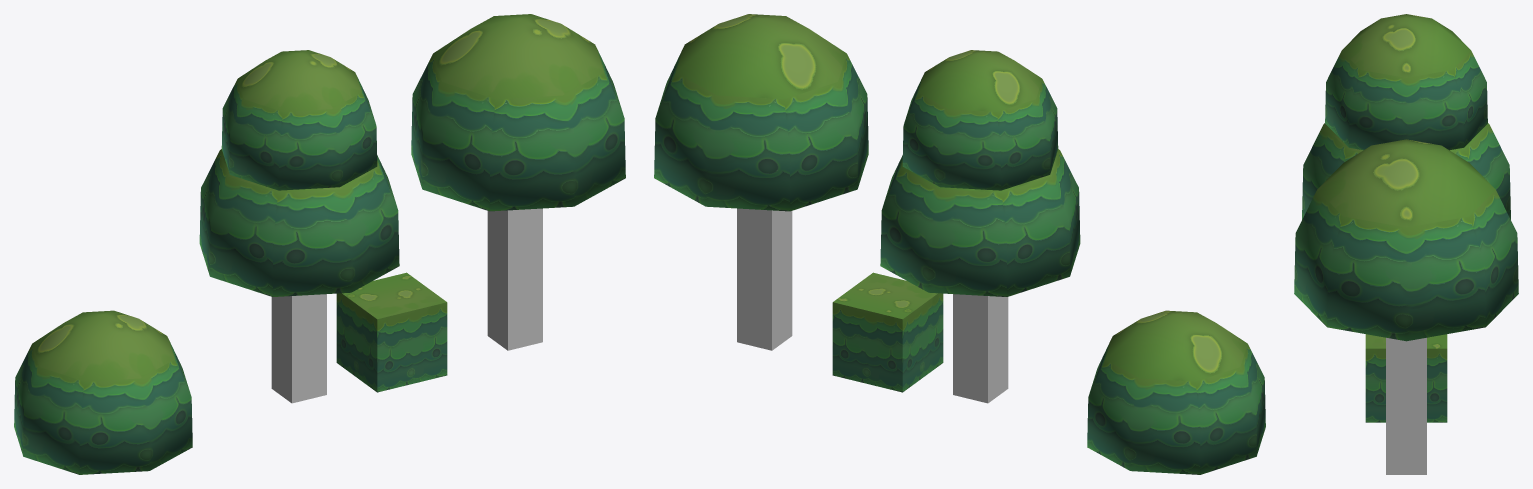
The model's file is Cube_Tree.fbx.
3 views of the same model, side by side, from view 1: azimuth 30°, elevation 25°; view 2: azimuth 150°, elevation 25°; view 3: azimuth 270°, elevation 25° (orthographic).
Parts seen in each view (by area): view 1: Tree_leaf, Tree_leaf.003, Tree_leaf.001, Tree_leaf.002, Box002.013, Cube_Tree_stem, Cube_Tree_stem.002, Cube_Tree_stem.001, Cube_Tree_stem.003; view 2: Tree_leaf, Tree_leaf.003, Tree_leaf.001, Tree_leaf.002, Box002.013, Cube_Tree_stem, Cube_Tree_stem.002, Cube_Tree_stem.001, Cube_Tree_stem.003; view 3: Tree_leaf, Tree_leaf.002, Tree_leaf.001, Box002.013, Cube_Tree_stem, Cube_Tree_stem.001.
Part boxes in pixels (<box>): Tree_leaf: <box>411,14,625,211</box>; Tree_leaf.003: <box>14,310,192,474</box>; Tree_leaf.001: <box>199,149,399,296</box>; Tree_leaf.002: <box>221,50,377,190</box>; Box002.013: <box>336,272,447,392</box>; Cube_Tree_stem: <box>487,263,542,350</box>; Cube_Tree_stem.002: <box>271,316,326,403</box>; Cube_Tree_stem.001: <box>487,208,542,277</box>; Cube_Tree_stem.003: <box>271,294,326,329</box>; Tree_leaf: <box>654,14,868,211</box>; Tree_leaf.003: <box>1087,310,1265,474</box>; Tree_leaf.001: <box>880,149,1080,296</box>; Tree_leaf.002: <box>902,50,1058,190</box>; Box002.013: <box>832,272,943,392</box>; Cube_Tree_stem: <box>737,263,792,350</box>; Cube_Tree_stem.002: <box>953,316,1008,403</box>; Cube_Tree_stem.001: <box>737,208,792,277</box>; Cube_Tree_stem.003: <box>953,294,1008,329</box>; Tree_leaf: <box>1294,139,1518,341</box>; Tree_leaf.002: <box>1325,14,1487,150</box>; Tree_leaf.001: <box>1302,123,1510,219</box>; Box002.013: <box>1365,334,1447,422</box>; Cube_Tree_stem: <box>1386,401,1426,474</box>; Cube_Tree_stem.001: <box>1386,337,1426,400</box>.
Size of the model in its own units: 8448 by 4614 by 2750.
